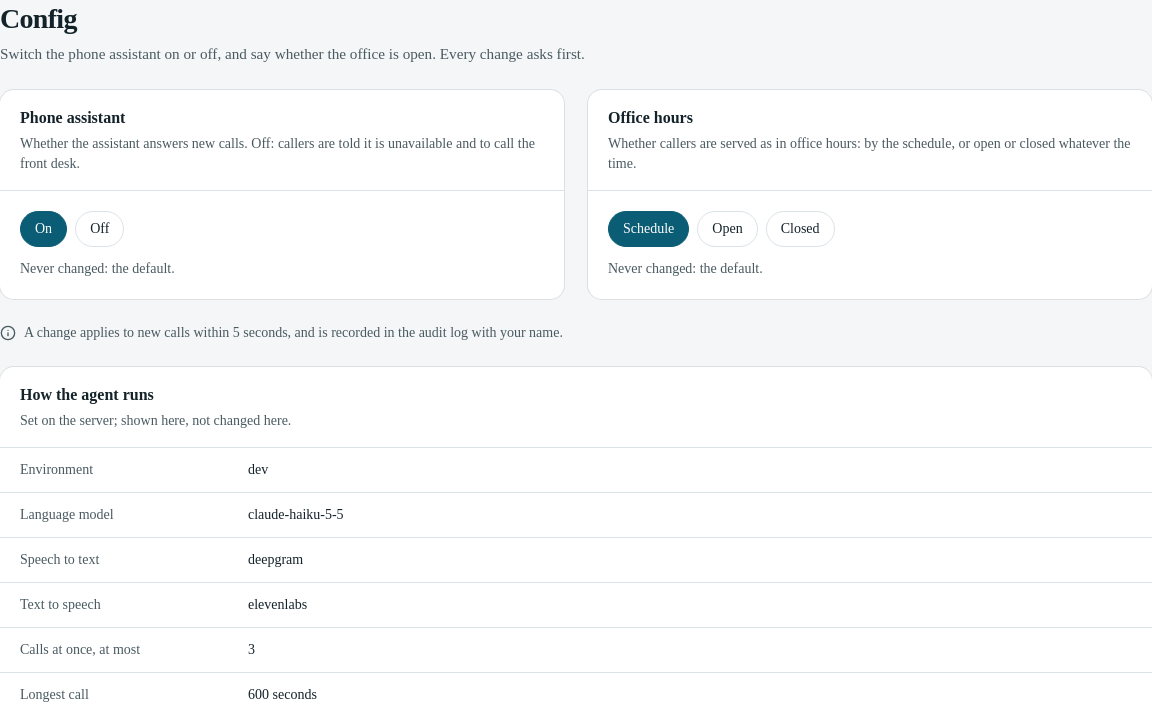
Test case: Config › sends the change with confirm: true only once it is confirmed, then says when it applies
This screenshot has width=1152, height=713.
Click the radio button labelled "Off": click(100, 229) [75, 211, 124, 247]
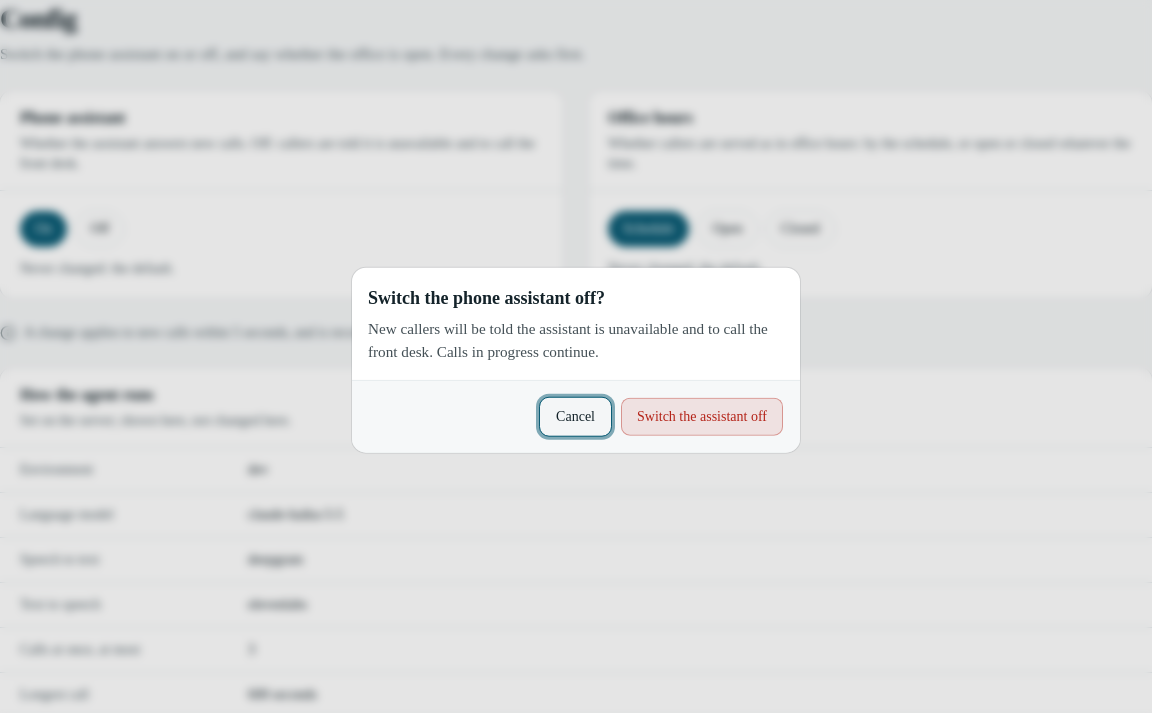
Click the button "Switch the assistant off": click(702, 416) [620, 396, 784, 436]
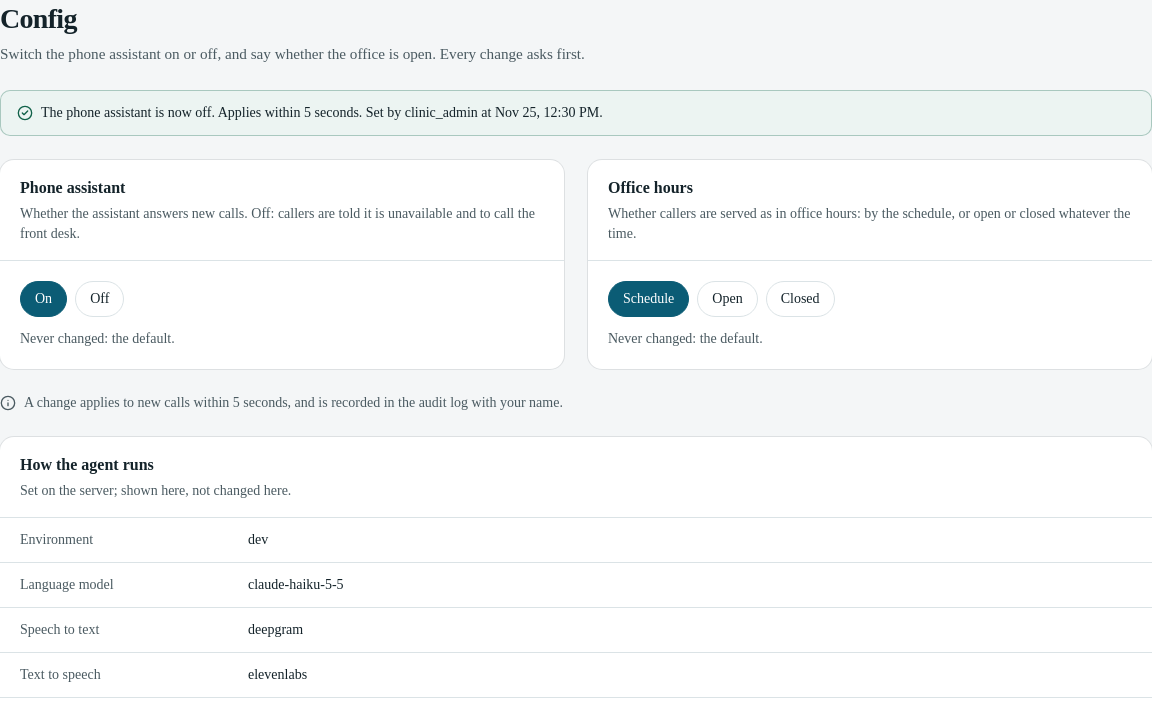
Now the text "Applies within 5 seconds" is shown, box [41, 105, 362, 120]
